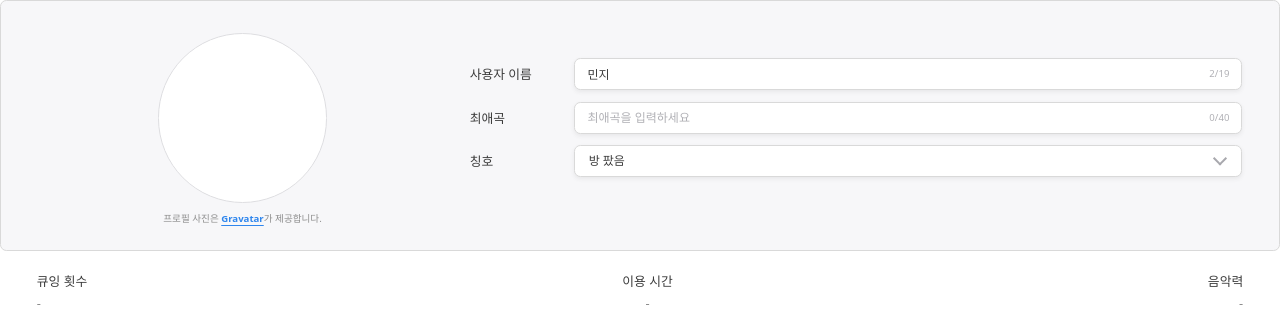
Scenario: 설정 칭호 목록 › hover 중 방향키로 전환하면 활성 칭호의 tooltip으로 갱신한다
Click the dropdown named "칭호" at (607, 160), box [574,145,1242,177]
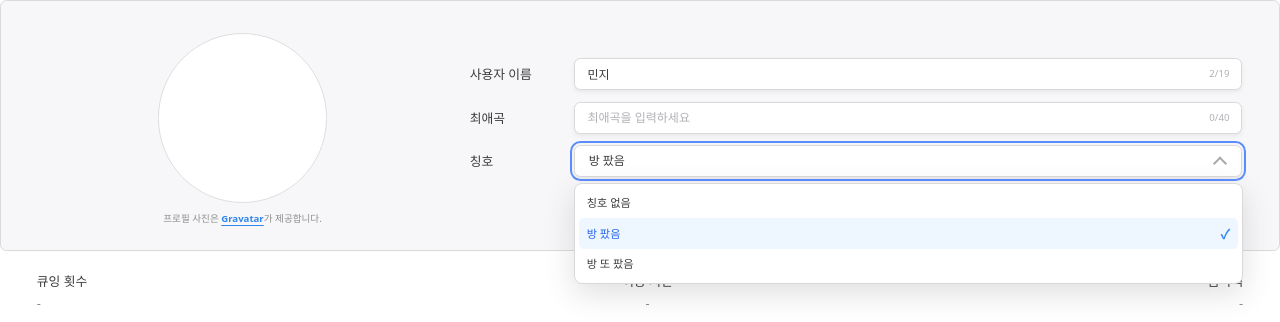
Hover over the option "방 팠음 ✓" at (604, 233), box [579,218,1238,249]
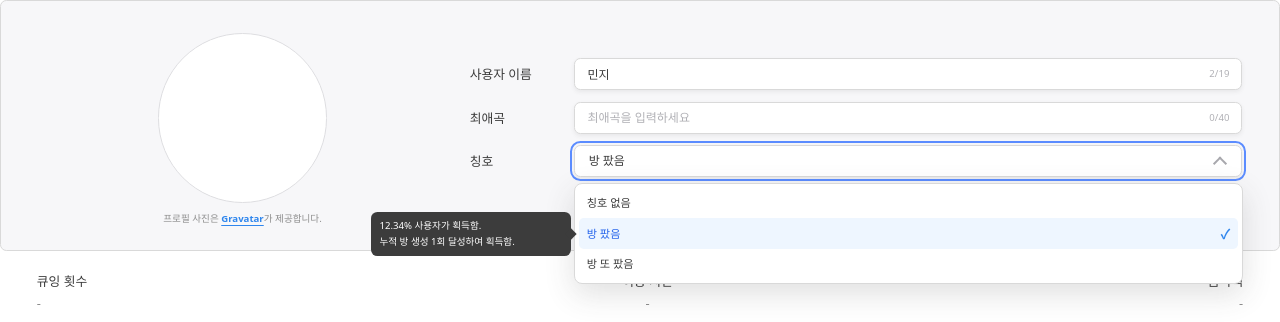
Result: the tooltip shows "12.34% 사용자가 획득함." at [380,219,481,232]
Press Arrowdown
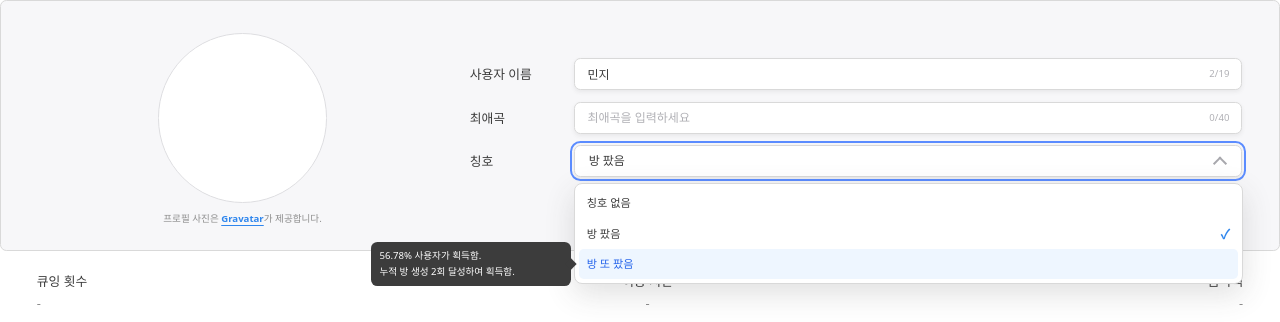
Result: the tooltip shows "56.78% 사용자가 획득함." at [380,249,481,262]
